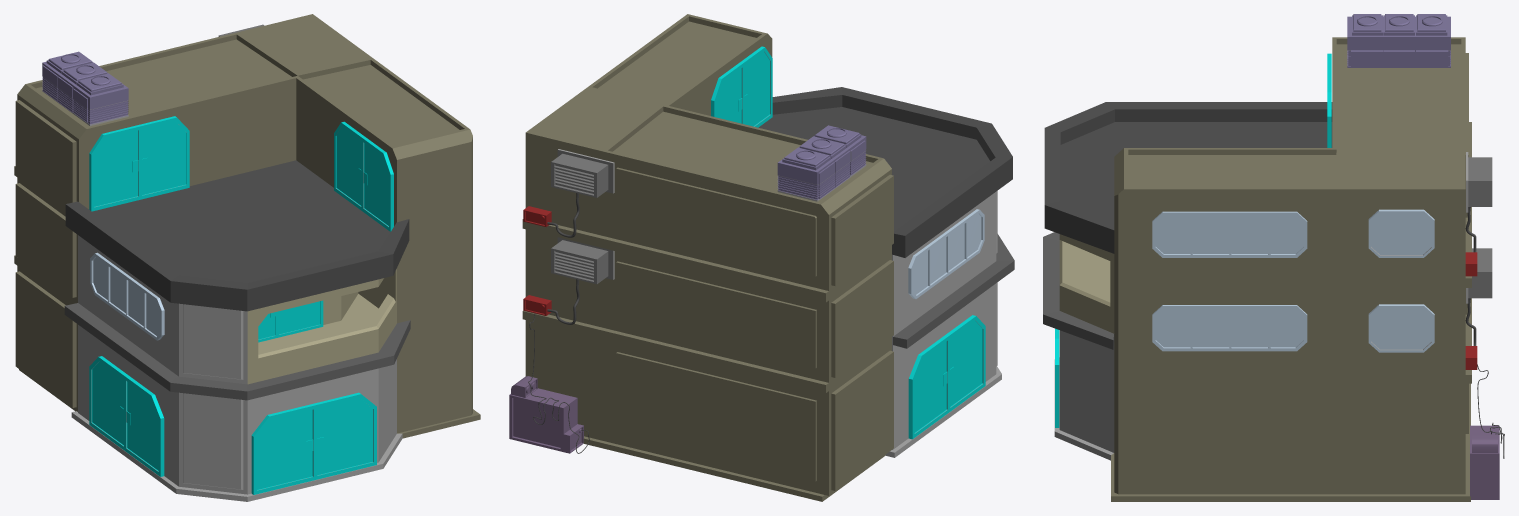
Rendered from Level 2 updated UV.fbx.
3 renders of one model, left to right at view 1: azimuth 30°, elevation 25°; view 2: azimuth 150°, elevation 25°; view 3: azimuth 270°, elevation 25°, orthographic. The views are drawn at different scales.
Visible parts, largest first — view 1: Right_Building, Top_Roof, Main, Door, Balcony, Door7, Second_Floor_Roof, Door5, Door6, AirVentUnit, Window4, Door4; view 2: Right_Building, Top_Roof, Main, Door5, AirVentUnit, CentralElectric, Door6, Window4, Second_Floor_Roof, Aircon1, Aircon2; view 3: Right_Building, Top_Roof, Window2, Window3, Main, AirVentUnit, Balcony, WindowSmall1, WindowSmall, Second_Floor_Roof, CentralElectric, Aircon1 (+1 smaller).
Part boxes in pixels (x1,y1,x2,y2): Right_Building: (14, 14, 480, 438); Top_Roof: (65, 160, 409, 311); Main: (71, 235, 402, 501); Door: (251, 392, 376, 494); Balcony: (247, 268, 396, 384); Door7: (89, 116, 189, 211); Second_Floor_Roof: (64, 303, 410, 400); Door5: (89, 356, 164, 476); Door6: (334, 121, 393, 231); AirVentUnit: (42, 51, 128, 126); Window4: (90, 252, 164, 340); Door4: (258, 300, 323, 342); Right_Building: (522, 14, 893, 501); Top_Roof: (758, 87, 1012, 257); Main: (885, 191, 1001, 457); Door5: (908, 315, 985, 439); AirVentUnit: (777, 125, 866, 201); CentralElectric: (509, 376, 583, 453); Door6: (711, 46, 772, 127); Window4: (908, 209, 984, 299); Second_Floor_Roof: (893, 234, 1014, 348); Aircon1: (551, 149, 614, 197); Aircon2: (551, 237, 614, 284); Right_Building: (1111, 37, 1471, 501); Top_Roof: (1044, 102, 1332, 253); Window2: (1152, 211, 1307, 257); Window3: (1152, 305, 1307, 351); Main: (1054, 330, 1114, 460); AirVentUnit: (1347, 14, 1450, 67); Balcony: (1059, 234, 1114, 333); WindowSmall1: (1368, 209, 1434, 257); WindowSmall: (1368, 304, 1434, 352); Second_Floor_Roof: (1043, 232, 1114, 349); CentralElectric: (1470, 425, 1499, 499); Aircon1: (1466, 152, 1492, 212).
Size of the model in its own units: 6.14 by 5.96 by 7.23.
